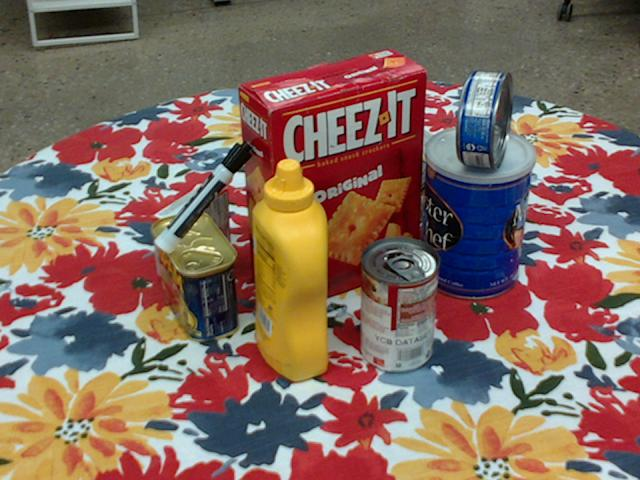cracker_box: (239, 49, 428, 312)
gelatin_box: (152, 180, 230, 283)
large_marker: (155, 140, 253, 252)
master_chef_can: (422, 126, 533, 301)
mug: (274, 122, 364, 221)
mustard_bottle: (254, 159, 327, 382)
potted_meat_can: (152, 211, 239, 342)
sugar_box: (333, 88, 489, 222)
tomato_soup_can: (359, 237, 439, 373)
tuna_fish_can: (458, 71, 512, 168)
